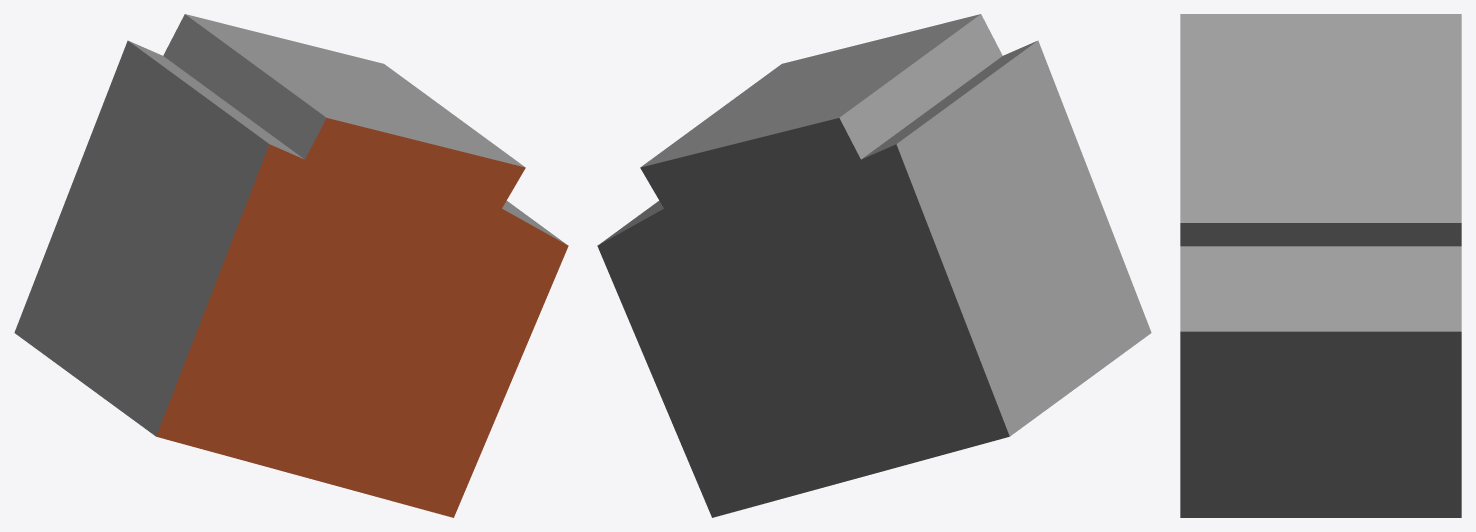
File: construction_5553_assumed_A_Casa_h6m.obj
3 views of the same model, side by side, from view 1: azimuth 30°, elevation 25°; view 2: azimuth 150°, elevation 25°; view 3: azimuth 270°, elevation 25° (orthographic).
Visible parts, largest first — view 1: construction_5553_assumed_A_Casa; view 2: construction_5553_assumed_A_Casa; view 3: construction_5553_assumed_A_Casa.
Part boxes in pixels (x1,y1,x2,y2): construction_5553_assumed_A_Casa: [14, 14, 568, 517]; construction_5553_assumed_A_Casa: [597, 14, 1151, 517]; construction_5553_assumed_A_Casa: [1180, 14, 1461, 517].
Size of the model in its own units: 10.08 by 10.06 by 6.
